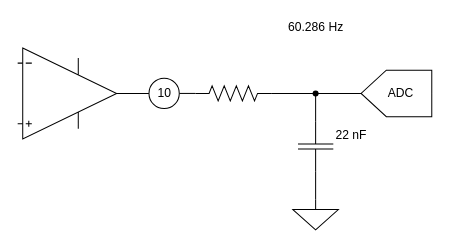
The diagram is 449 pixels wide and 247 high, and some of its shapes have lost their labels. The box of each missing label's shape, as (x1, y1, x2, y2) in pixels:
120k Ω: (194, 85, 271, 101)
A1: (17, 47, 117, 139)
